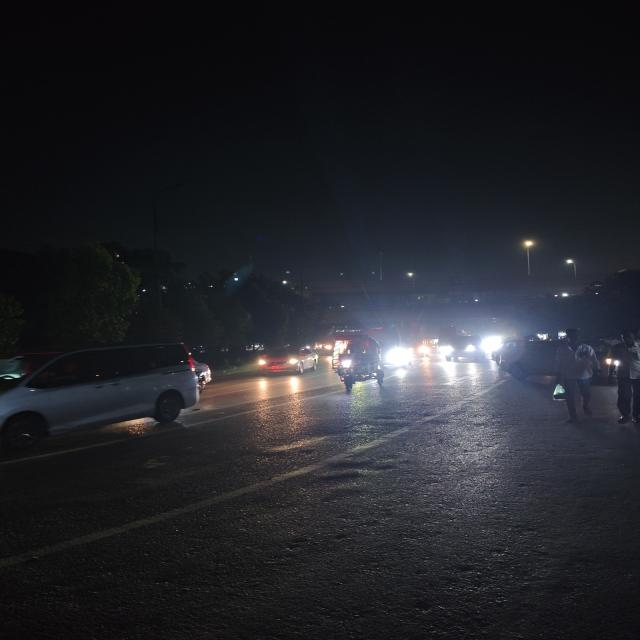car: (0, 335, 210, 451), (254, 344, 309, 378), (442, 333, 486, 363)
pedestrian: (550, 332, 597, 421), (606, 337, 640, 431)
rickshaw: (328, 336, 390, 392)
